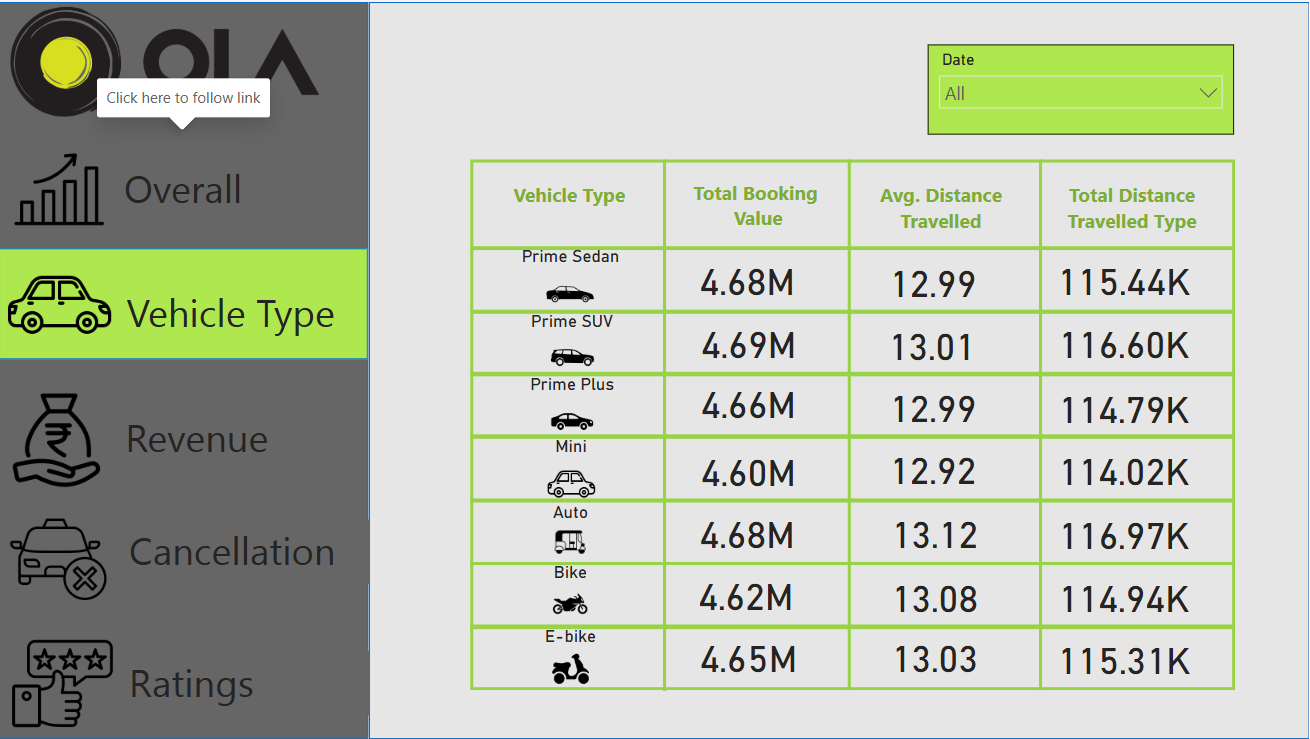

The page's visual inventory and layout, read from the dashboard file:
{"tool":"powerbi","page":{"name":"Vehicle Type","canvas":[1280,720],"ordinal":1},"visuals":[{"type":"shape","box":[0,0,360.9,720.4],"z":0},{"type":"image","title":"logo","box":[0,0,324.6,117.4],"z":1000},{"type":"shape","box":[361.5,0,918.8,720.1],"z":2000},{"type":"textbox","title":"Text box1","box":[117.7,151.6,240.3,62.9],"z":3000},{"type":"image","title":"Image1","box":[0,128.3,118.3,110],"z":4000},{"type":"actionButton","title":"Button1","box":[0,129.1,360.4,109.8],"z":5000},{"type":"shape","title":"Shape2","box":[0,240.7,360.3,108.5],"z":6000},{"type":"textbox","title":"Text box2","box":[120.1,271.7,240.1,63.2],"z":7000},{"type":"image","title":"Image2","box":[0,240.1,118.5,110.6],"z":8000},{"type":"actionButton","title":"Button2","box":[0,240.1,360.2,110.6],"z":9000},{"type":"textbox","title":"Text box3","box":[118.5,395,240.1,63.2],"z":10000},{"type":"image","title":"Image3","box":[0,370,116.7,110],"z":11000},{"type":"actionButton","title":"Button3","box":[0,371.3,360.2,110.6],"z":12000},{"type":"textbox","title":"Text box4","box":[121.7,505.6,240.1,63.2],"z":13000},{"type":"image","title":"Image4","box":[0,490,116.7,110],"z":14000},{"type":"actionButton","title":"Button4","box":[0,481.9,360.2,110.6],"z":15000},{"type":"textbox","title":"Text box5","box":[121.7,633.5,240.1,63.2],"z":16000},{"type":"image","title":"Image5","box":[0,611.7,123.3,108.3],"z":17000},{"type":"actionButton","title":"Button5","box":[0,609.8,360.2,110.6],"z":18000},{"type":"slicer","fields":{"Values":["bangalore_ride_data_Jan25.Date"]},"box":[907.8,41.2,299.1,87.7],"z":20000},{"type":"shape","box":[460.4,301.9,747.3,62.7],"z":21000,"group":"g1"},{"type":"shape","box":[460.4,363,747.3,62.7],"z":22000,"group":"g1"},{"type":"shape","box":[460.4,154.7,747.3,87.7],"z":23000,"group":"g1"},{"type":"shape","box":[460.4,424.1,747.3,64.2],"z":24000,"group":"g1"},{"type":"shape","box":[460.4,486.8,747.3,64.2],"z":25000,"group":"g1"},{"type":"shape","box":[460.4,547.9,747.3,65.8],"z":26000,"group":"g1"},{"type":"shape","box":[460.4,609,747.3,64.2],"z":27000,"group":"g1"},{"type":"shape","box":[460.4,239.3,747.3,64.2],"z":28000,"group":"g1"},{"type":"image","title":"E-bike","box":[459.9,609.8,195.8,65.3],"z":29000,"group":"g1"},{"type":"image","title":"Bike","box":[459.9,547.3,195.8,62.5],"z":30000,"group":"g1"},{"type":"image","title":"Auto","box":[459.9,488.9,195.8,59.7],"z":31000,"group":"g1"},{"type":"image","title":"Mini","box":[461.3,423.6,194.4,75],"z":32000,"group":"g1"},{"type":"image","title":"Prime SUV","box":[464.1,301.4,191.7,72.2],"z":33000,"group":"g1"},{"type":"image","title":"Prime Sedan","box":[460,238.7,195.9,75.7],"z":34000,"group":"g1"},{"type":"image","title":"Prime Plus","box":[464.1,362.5,191.7,75],"z":35000,"group":"g1"},{"type":"textbox","box":[463.6,171.9,186.4,56.4],"z":36000,"group":"g1"},{"type":"shape","box":[615.5,154.2,69.4,519.4],"z":37000,"group":"g1"},{"type":"textbox","box":[651.6,168.8,173.9,68.9],"z":38000,"group":"g1"},{"type":"textbox","box":[844.3,171.9,150.4,61.1],"z":39000,"group":"g1"},{"type":"textbox","box":[1026,171.9,159.8,59.5],"z":40000,"group":"g1"},{"type":"shape","box":[795.7,154.7,68.9,518.6],"z":41000,"group":"g1"},{"type":"shape","box":[982.2,154.7,68.9,518.6],"z":42000,"group":"g1"},{"type":"card","fields":{"Values":["bangalore_ride_data_Jan25.Total_Booking_Value"]},"box":[651.9,237.3,158.1,66.2],"z":43000,"group":"g1"},{"type":"card","fields":{"Values":["Sum(bangalore_ride_data_Jan25.Ride Distance)"]},"box":[1018.2,242.4,161.4,58],"z":44000,"group":"g1"},{"type":"card","fields":{"Values":["Avg(bangalore_ride_data_Jan25.Ride Distance)"]},"box":[830.2,239.3,164.5,65.8],"z":45000,"group":"g1"},{"type":"card","fields":{"Values":["bangalore_ride_data_Jan25.Total_Booking_Value"]},"box":[652.8,299.9,158.2,65.6],"z":46000,"group":"g1"},{"type":"card","fields":{"Values":["Avg(bangalore_ride_data_Jan25.Ride Distance)"]},"box":[830.2,422.6,164.5,65.8],"z":47000,"group":"g1"},{"type":"card","fields":{"Values":["Avg(bangalore_ride_data_Jan25.Ride Distance)"]},"box":[828.6,300.4,164.5,67.4],"z":48000,"group":"g1"},{"type":"card","fields":{"Values":["Avg(bangalore_ride_data_Jan25.Ride Distance)"]},"box":[830.2,361.5,164.5,65.8],"z":49000,"group":"g1"},{"type":"card","fields":{"Values":["Avg(bangalore_ride_data_Jan25.Ride Distance)"]},"box":[831.8,547.9,162.9,65.8],"z":50000,"group":"g1"},{"type":"card","fields":{"Values":["Avg(bangalore_ride_data_Jan25.Ride Distance)"]},"box":[831.8,485.2,162.9,65.8],"z":51000,"group":"g1"},{"type":"card","fields":{"Values":["Avg(bangalore_ride_data_Jan25.Ride Distance)"]},"box":[831.8,605.9,162.9,65.8],"z":52000,"group":"g1"},{"type":"card","fields":{"Values":["Sum(bangalore_ride_data_Jan25.Ride Distance)"]},"box":[1018.2,303.5,161.4,58],"z":53000,"group":"g1"},{"type":"card","fields":{"Values":["Sum(bangalore_ride_data_Jan25.Ride Distance)"]},"box":[1018.2,489.9,161.4,58],"z":54000,"group":"g1"},{"type":"card","fields":{"Values":["Sum(bangalore_ride_data_Jan25.Ride Distance)"]},"box":[1018.2,427.3,161.4,58],"z":55000,"group":"g1"},{"type":"card","fields":{"Values":["Sum(bangalore_ride_data_Jan25.Ride Distance)"]},"box":[1018.2,366.2,161.4,58],"z":56000,"group":"g1"},{"type":"card","fields":{"Values":["Sum(bangalore_ride_data_Jan25.Ride Distance)"]},"box":[1018.2,551,161.4,58],"z":57000,"group":"g1"},{"type":"card","fields":{"Values":["Sum(bangalore_ride_data_Jan25.Ride Distance)"]},"box":[1018.2,612.1,161.4,58],"z":58000,"group":"g1"},{"type":"card","fields":{"Values":["bangalore_ride_data_Jan25.Total_Booking_Value"]},"box":[653.3,357.6,157.8,66],"z":59000,"group":"g1"},{"type":"card","fields":{"Values":["Sum(bangalore_ride_data_Jan25.Booking Value)"]},"box":[653.3,423.6,157.8,66],"z":60000,"group":"g1"},{"type":"card","fields":{"Values":["Sum(bangalore_ride_data_Jan25.Booking Value)"]},"box":[651.7,484.8,157.8,66],"z":61000,"group":"g1"},{"type":"card","fields":{"Values":["Sum(bangalore_ride_data_Jan25.Booking Value)"]},"box":[650.1,545.9,157.8,64.4],"z":62000,"group":"g1"},{"type":"card","fields":{"Values":["bangalore_ride_data_Jan25.Total_Booking_Value"]},"box":[653.3,607.1,157.8,64.4],"z":63000,"group":"g1"},{"type":"group","id":"g1","title":"Group 1","box":[459.9,154.2,747,519.7],"z":63001}]}

Visuals, with their boxes in screenshot pixels (x1, y1, x2, y2), scaled from the page's 1280x720 canvas onto the 1310x739 screenshot:
shape: bbox(0, 0, 369, 738)
"logo" image: bbox(0, 0, 332, 120)
shape: bbox(370, 0, 1309, 738)
"Text box1" textbox: bbox(120, 156, 366, 220)
"Image1" image: bbox(0, 132, 121, 245)
"Button1" actionButton: bbox(0, 133, 369, 245)
"Shape2" shape: bbox(0, 247, 369, 358)
"Text box2" textbox: bbox(123, 279, 369, 344)
"Image2" image: bbox(0, 246, 121, 360)
"Button2" actionButton: bbox(0, 246, 369, 360)
"Text box3" textbox: bbox(121, 405, 367, 470)
"Image3" image: bbox(0, 380, 119, 493)
"Button3" actionButton: bbox(0, 381, 369, 495)
"Text box4" textbox: bbox(125, 519, 370, 584)
"Image4" image: bbox(0, 503, 119, 616)
"Button4" actionButton: bbox(0, 495, 369, 608)
"Text box5" textbox: bbox(125, 650, 370, 715)
"Image5" image: bbox(0, 628, 126, 738)
"Button5" actionButton: bbox(0, 626, 369, 738)
slicer - bangalore_ride_data_Jan25.Date: bbox(929, 42, 1235, 132)
shape: bbox(471, 310, 1236, 374)
shape: bbox(471, 373, 1236, 437)
shape: bbox(471, 159, 1236, 249)
shape: bbox(471, 435, 1236, 501)
shape: bbox(471, 500, 1236, 566)
shape: bbox(471, 562, 1236, 630)
shape: bbox(471, 625, 1236, 691)
shape: bbox(471, 246, 1236, 312)
"E-bike" image: bbox(471, 626, 671, 693)
"Bike" image: bbox(471, 562, 671, 626)
"Auto" image: bbox(471, 502, 671, 563)
"Mini" image: bbox(472, 435, 671, 512)
"Prime SUV" image: bbox(475, 309, 671, 383)
"Prime Sedan" image: bbox(471, 245, 671, 323)
"Prime Plus" image: bbox(475, 372, 671, 449)
textbox: bbox(474, 176, 665, 234)
shape: bbox(630, 158, 701, 691)
textbox: bbox(667, 173, 845, 244)
textbox: bbox(864, 176, 1018, 239)
textbox: bbox(1050, 176, 1214, 238)
shape: bbox(814, 159, 885, 691)
shape: bbox(1005, 159, 1076, 691)
card - bangalore_ride_data_Jan25.Total_Booking_Value: bbox(667, 244, 829, 312)
card - Sum(bangalore_ride_data_Jan25.Ride Distance): bbox(1042, 249, 1207, 308)
card - Avg(bangalore_ride_data_Jan25.Ride Distance): bbox(850, 246, 1018, 313)
card - bangalore_ride_data_Jan25.Total_Booking_Value: bbox(668, 308, 830, 375)
card - Avg(bangalore_ride_data_Jan25.Ride Distance): bbox(850, 434, 1018, 501)
card - Avg(bangalore_ride_data_Jan25.Ride Distance): bbox(848, 308, 1016, 378)
card - Avg(bangalore_ride_data_Jan25.Ride Distance): bbox(850, 371, 1018, 439)
card - Avg(bangalore_ride_data_Jan25.Ride Distance): bbox(851, 562, 1018, 630)
card - Avg(bangalore_ride_data_Jan25.Ride Distance): bbox(851, 498, 1018, 566)
card - Avg(bangalore_ride_data_Jan25.Ride Distance): bbox(851, 622, 1018, 689)
card - Sum(bangalore_ride_data_Jan25.Ride Distance): bbox(1042, 312, 1207, 371)
card - Sum(bangalore_ride_data_Jan25.Ride Distance): bbox(1042, 503, 1207, 562)
card - Sum(bangalore_ride_data_Jan25.Ride Distance): bbox(1042, 439, 1207, 498)
card - Sum(bangalore_ride_data_Jan25.Ride Distance): bbox(1042, 376, 1207, 435)
card - Sum(bangalore_ride_data_Jan25.Ride Distance): bbox(1042, 566, 1207, 625)
card - Sum(bangalore_ride_data_Jan25.Ride Distance): bbox(1042, 628, 1207, 688)
card - bangalore_ride_data_Jan25.Total_Booking_Value: bbox(669, 367, 830, 435)
card - Sum(bangalore_ride_data_Jan25.Booking Value): bbox(669, 435, 830, 503)
card - Sum(bangalore_ride_data_Jan25.Booking Value): bbox(667, 498, 828, 565)
card - Sum(bangalore_ride_data_Jan25.Booking Value): bbox(665, 560, 827, 626)
card - bangalore_ride_data_Jan25.Total_Booking_Value: bbox(669, 623, 830, 689)
"Group 1" group: bbox(471, 158, 1235, 692)
